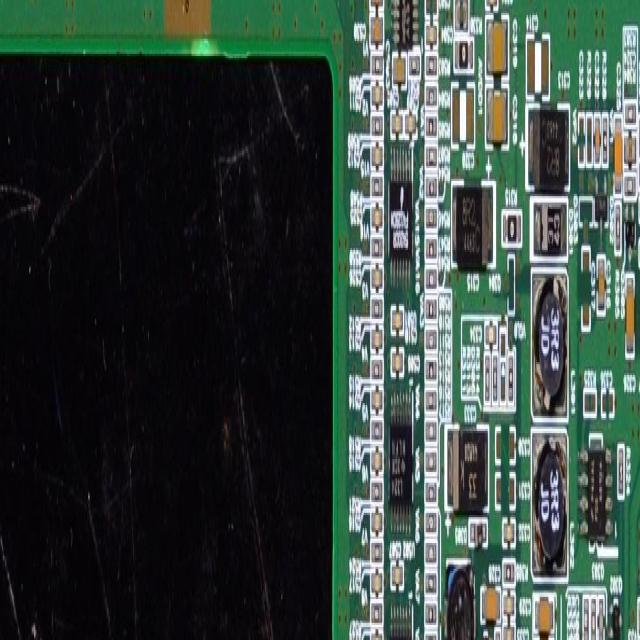capacitor: (460, 308, 517, 411), (451, 177, 497, 289), (526, 97, 572, 197), (451, 73, 480, 166), (484, 69, 511, 147), (485, 13, 510, 82), (527, 37, 549, 101), (495, 424, 516, 468), (624, 267, 634, 358), (496, 468, 516, 509), (596, 243, 606, 316), (583, 244, 592, 324), (534, 599, 554, 634), (370, 6, 386, 48), (503, 588, 515, 640), (601, 386, 616, 426), (616, 112, 623, 191), (370, 196, 384, 232), (503, 509, 516, 547), (485, 317, 500, 349), (371, 442, 384, 478), (370, 80, 384, 112), (370, 382, 383, 412), (372, 261, 384, 293), (371, 321, 384, 349), (425, 20, 437, 50), (372, 138, 384, 167), (578, 108, 584, 164), (373, 502, 383, 533), (371, 569, 382, 595), (595, 112, 600, 164), (423, 0, 439, 15), (370, 0, 385, 9), (371, 635, 382, 640), (639, 547, 640, 597), (534, 638, 553, 640)
resistor: (425, 49, 438, 172), (425, 287, 438, 394), (583, 594, 606, 640), (426, 196, 438, 278), (502, 207, 523, 242), (582, 379, 597, 418), (453, 0, 469, 32), (503, 554, 516, 589), (616, 439, 624, 494), (372, 534, 384, 568), (602, 105, 608, 168), (370, 296, 384, 322), (371, 235, 384, 261), (614, 198, 620, 254), (370, 52, 382, 78), (371, 110, 384, 134), (371, 478, 383, 503), (371, 601, 382, 626), (371, 175, 384, 196), (586, 112, 591, 163), (370, 360, 382, 381), (370, 420, 383, 439), (494, 629, 502, 640), (638, 240, 640, 270), (639, 198, 640, 226)
